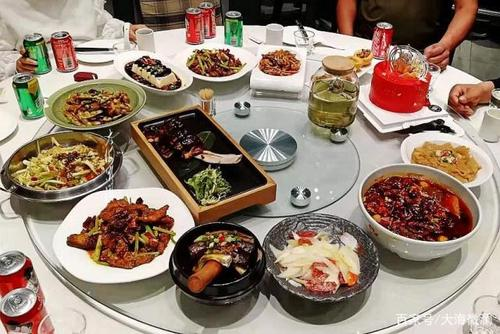food: (118, 97, 274, 212), (352, 153, 484, 262), (52, 184, 190, 279), (258, 206, 377, 312), (165, 216, 265, 308), (9, 128, 113, 203), (398, 126, 496, 186), (49, 72, 143, 130), (184, 39, 255, 85), (251, 41, 305, 95), (126, 51, 181, 92)
